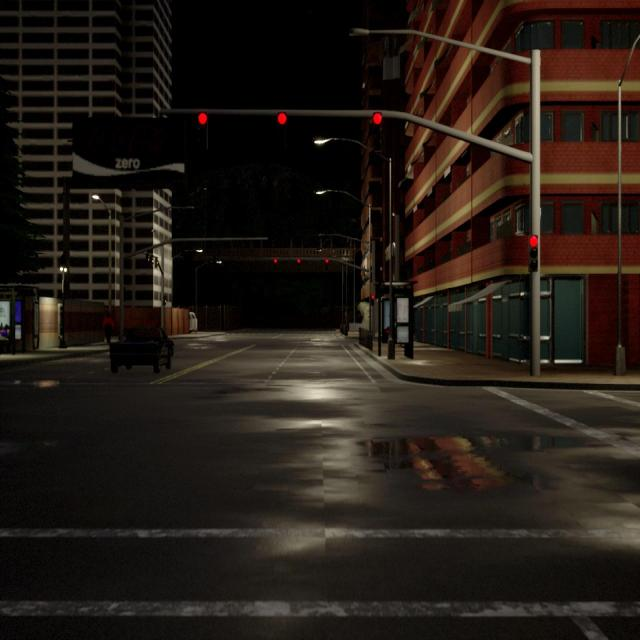Pedestrian: (103, 309, 113, 346)
Vehicle: (110, 327, 174, 372), (190, 312, 198, 332)
traffic_light: (528, 234, 538, 274), (198, 111, 207, 149), (372, 112, 382, 142), (278, 112, 286, 141), (370, 294, 375, 306), (145, 252, 149, 264), (150, 254, 154, 266), (155, 256, 158, 268), (324, 258, 329, 264), (274, 258, 278, 264), (296, 258, 300, 264)
